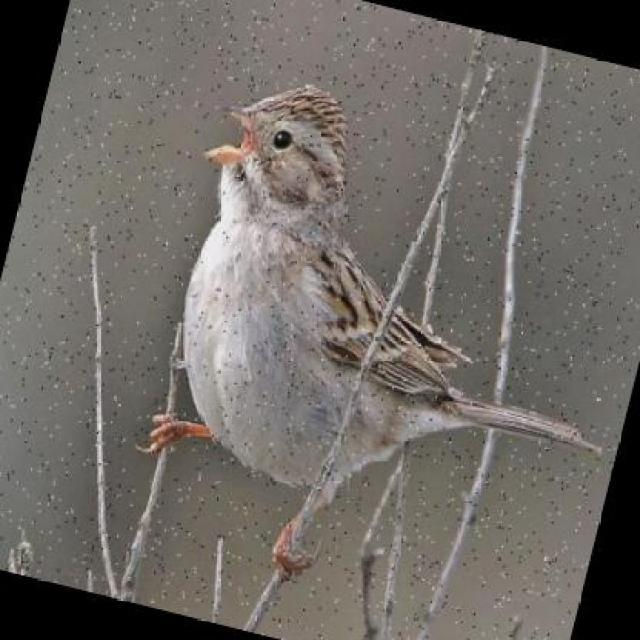Bird: (150, 84, 593, 561)
